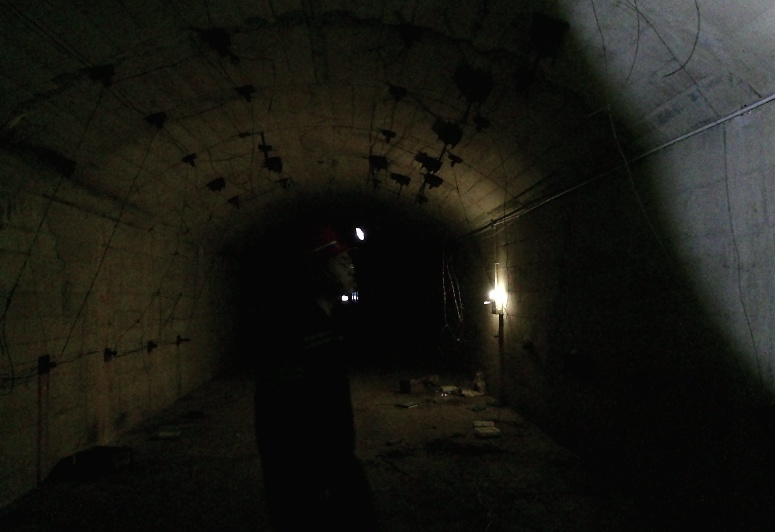person: (253, 224, 365, 532)
